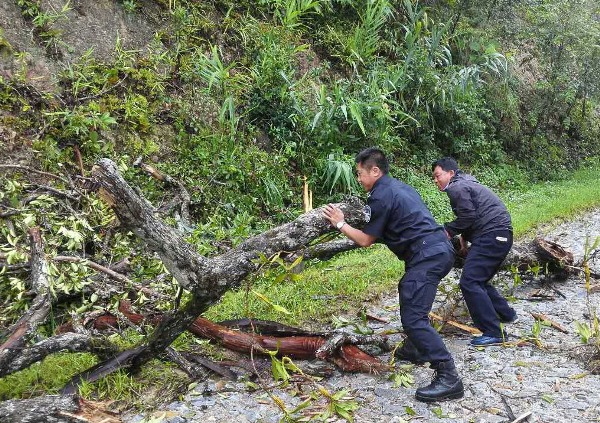handsup: (323, 146, 473, 407)
other: (315, 144, 473, 408), (425, 127, 534, 356)
